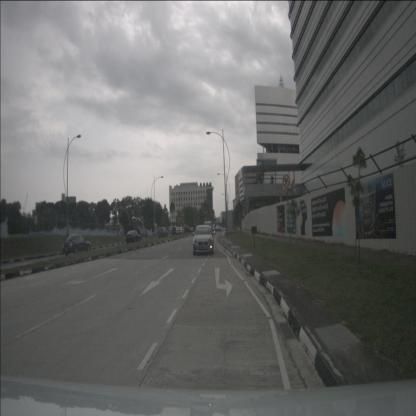vehicle-car: (193, 225, 214, 255), (62, 234, 91, 255), (126, 230, 142, 244), (203, 221, 212, 237), (158, 227, 168, 238), (172, 226, 180, 236), (177, 227, 184, 234), (210, 227, 216, 235), (184, 226, 190, 233), (216, 224, 221, 232)
